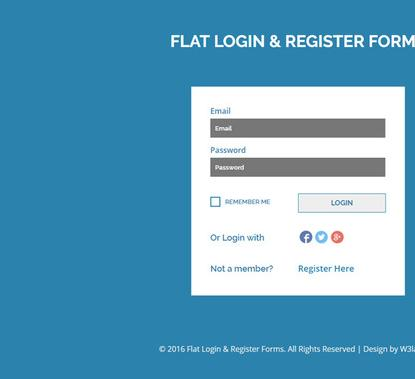button: (296, 192, 386, 214)
checkbox: (209, 195, 221, 207)
checkbox_with_label: (206, 193, 272, 209)
field: (209, 157, 386, 179), (208, 117, 387, 138)
field_with_label: (207, 106, 388, 140), (208, 146, 388, 180)
